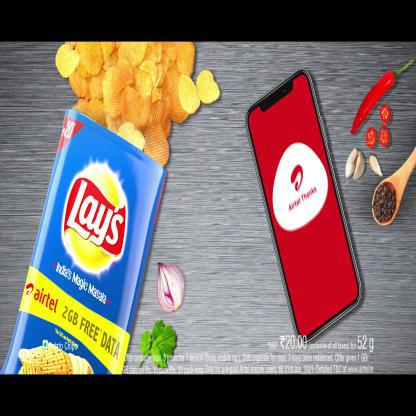indian_magic_masala: (8, 107, 163, 375)
